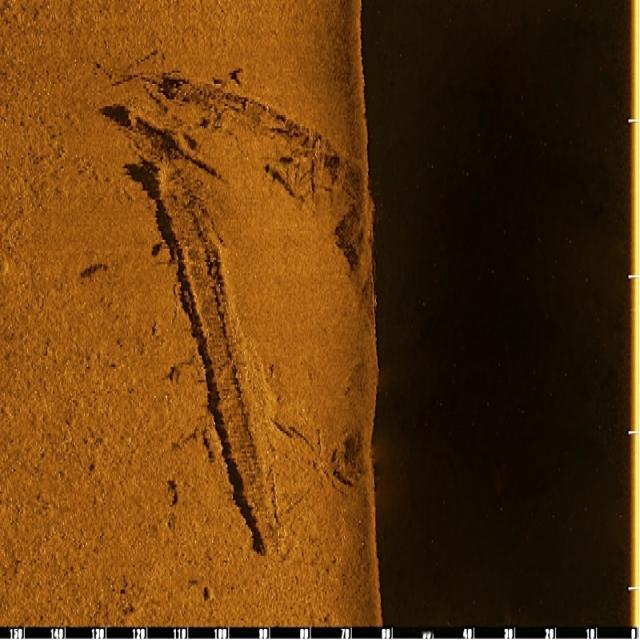shipwreck: (147, 158, 284, 554)
